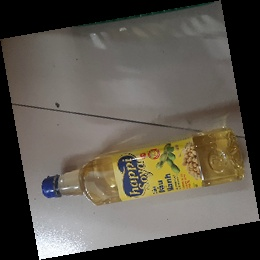Happy Soya: (42, 128, 246, 207)
